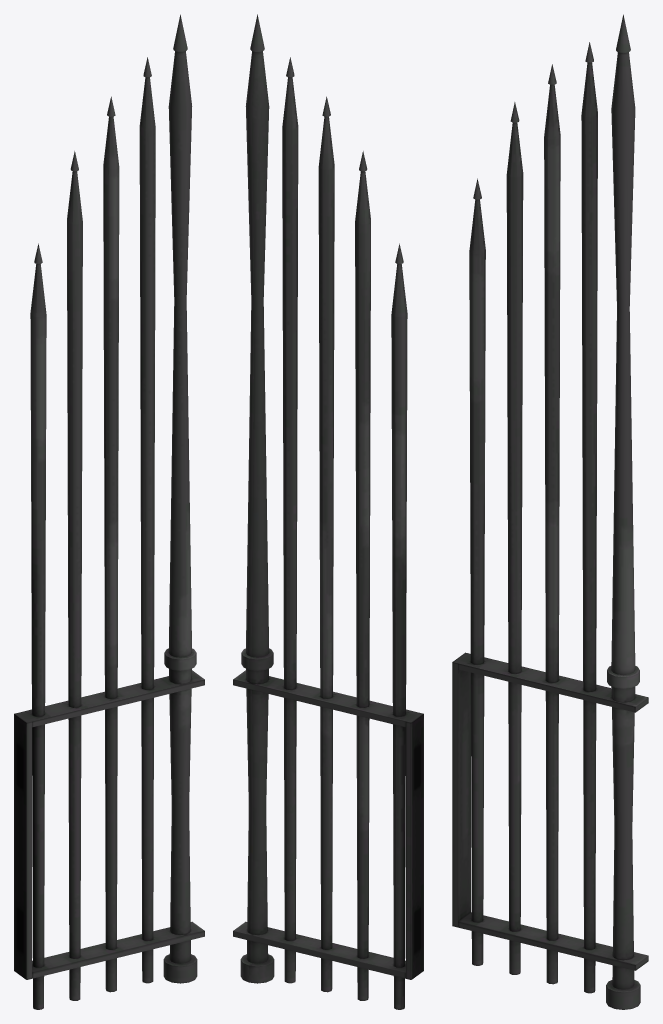
The model's file is gothic_gate_01b.glb.
The picture shows the model from 3 angles, left to right: view 1: azimuth 30°, elevation 25°; view 2: azimuth 150°, elevation 25°; view 3: azimuth 330°, elevation 25°; orthographic projection. The views are drawn at different scales.
Visible parts, largest first — view 1: gothic_gate_01b; view 2: gothic_gate_01b; view 3: gothic_gate_01b.
Part boxes in pixels (x1=…): gothic_gate_01b: x1=14, y1=14, x2=204, y2=1009; gothic_gate_01b: x1=233, y1=14, x2=423, y2=1009; gothic_gate_01b: x1=452, y1=14, x2=648, y2=1009.
Size of the model in its own units: 0.9335 by 4.81 by 0.1524.
Materials: 1 (1 with a texture image).
